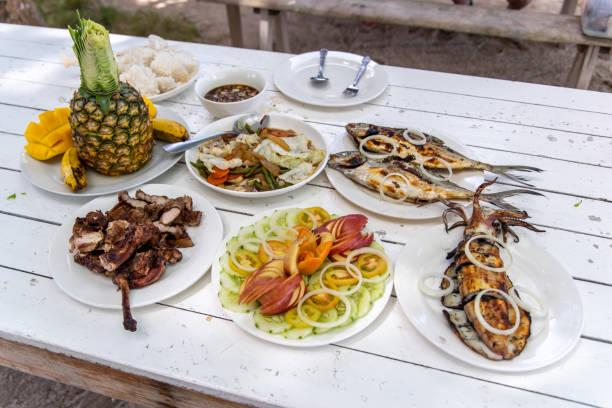Braised Crucian Carp: (392, 219, 585, 374), (212, 203, 392, 346), (49, 186, 220, 310), (326, 124, 488, 220), (21, 106, 186, 196), (184, 112, 327, 197)
